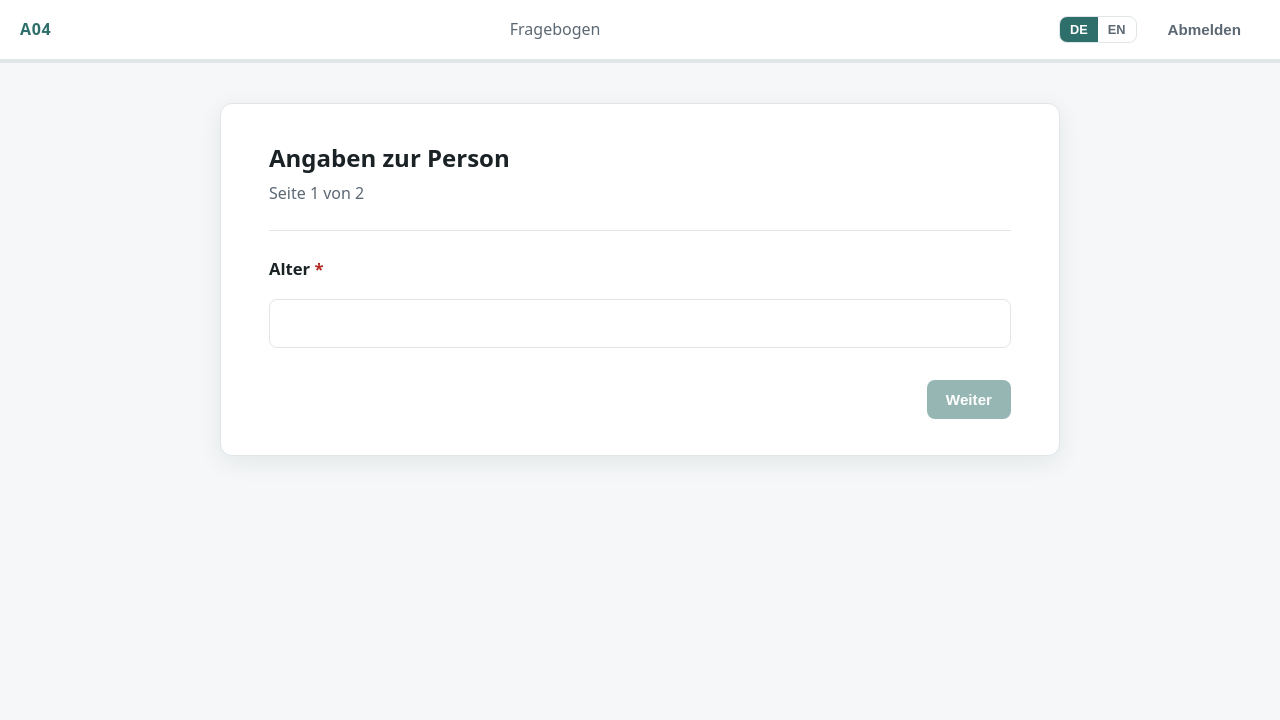
cancelling, a lesser chord, and the first screen all leave the run alone
Press KeyB
Press KeyB
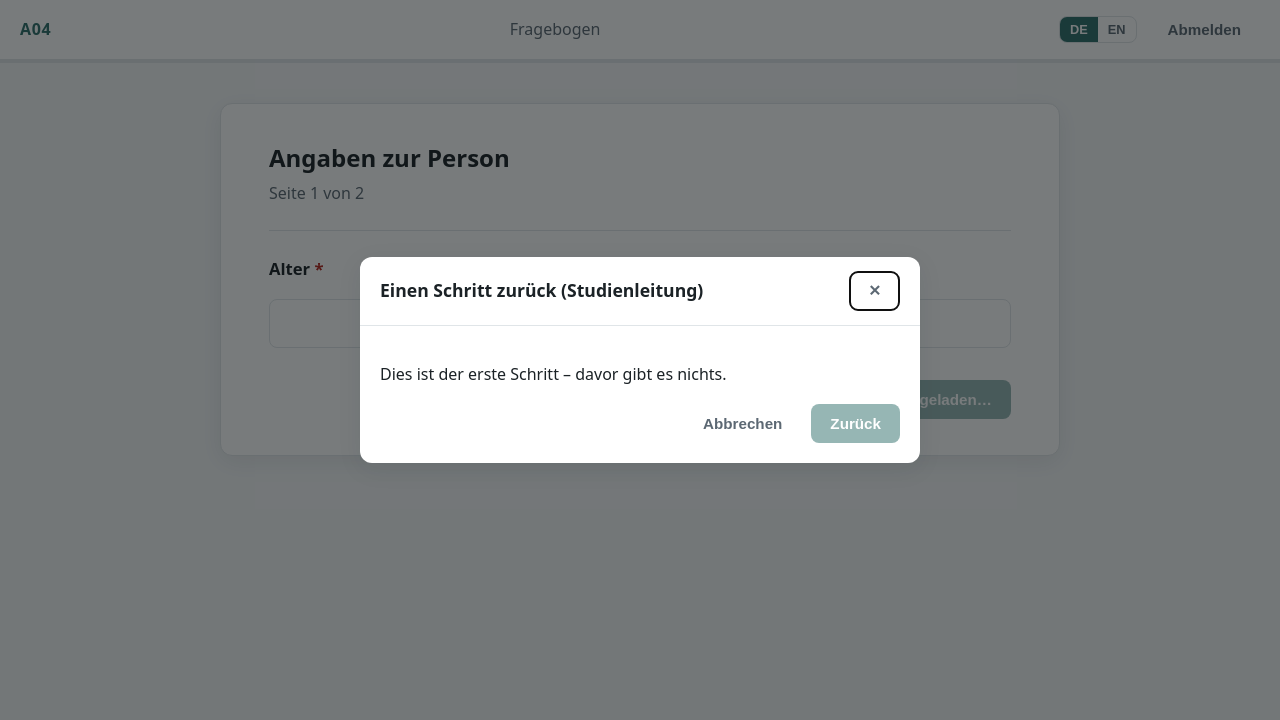
Now the text "Dies ist der erste Schritt – davor gibt es nichts." is shown, box 380,363 -> 726,385
Now the button "Zurück" is disabled, box 811,404 -> 900,443
Click the button "Abbrechen" at coordinates (743, 424), box 684,404 -> 801,443
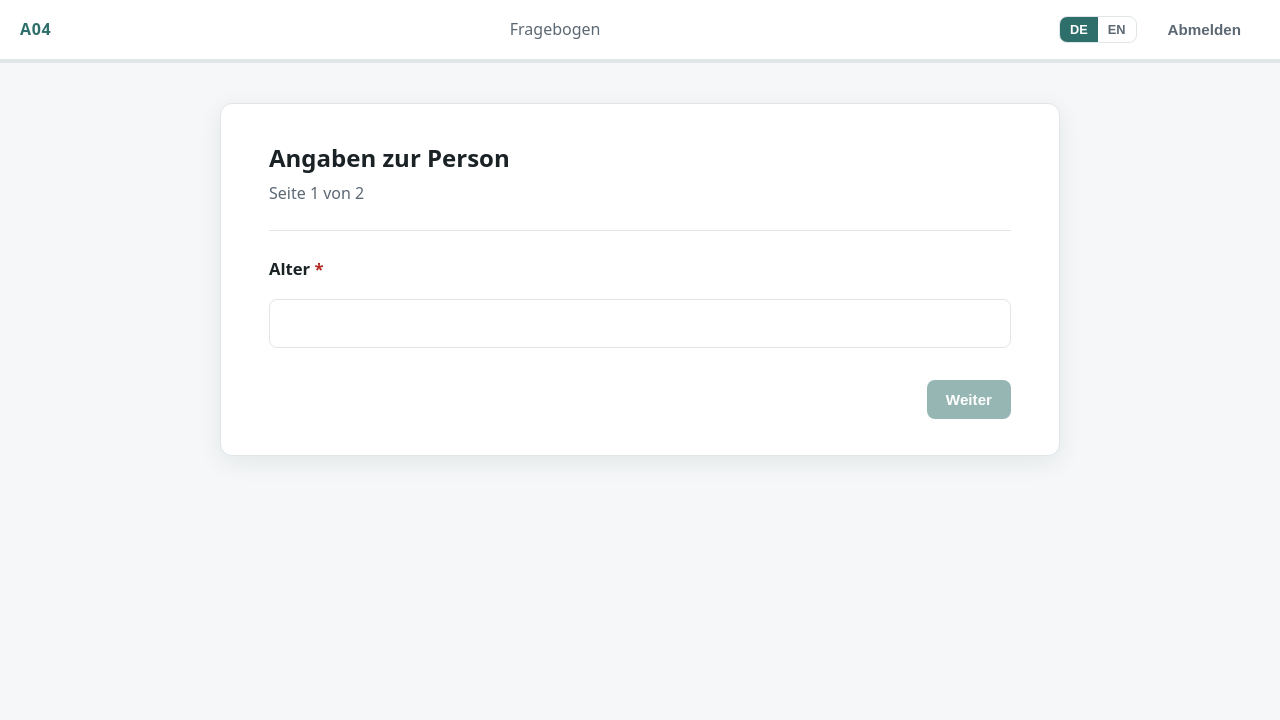
Now the dialog is gone
